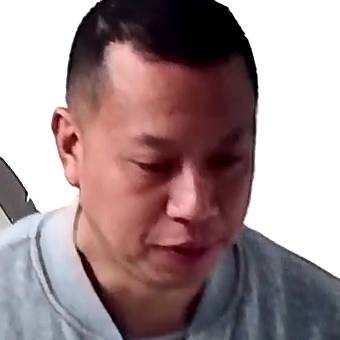qg: (51, 30, 304, 283)
